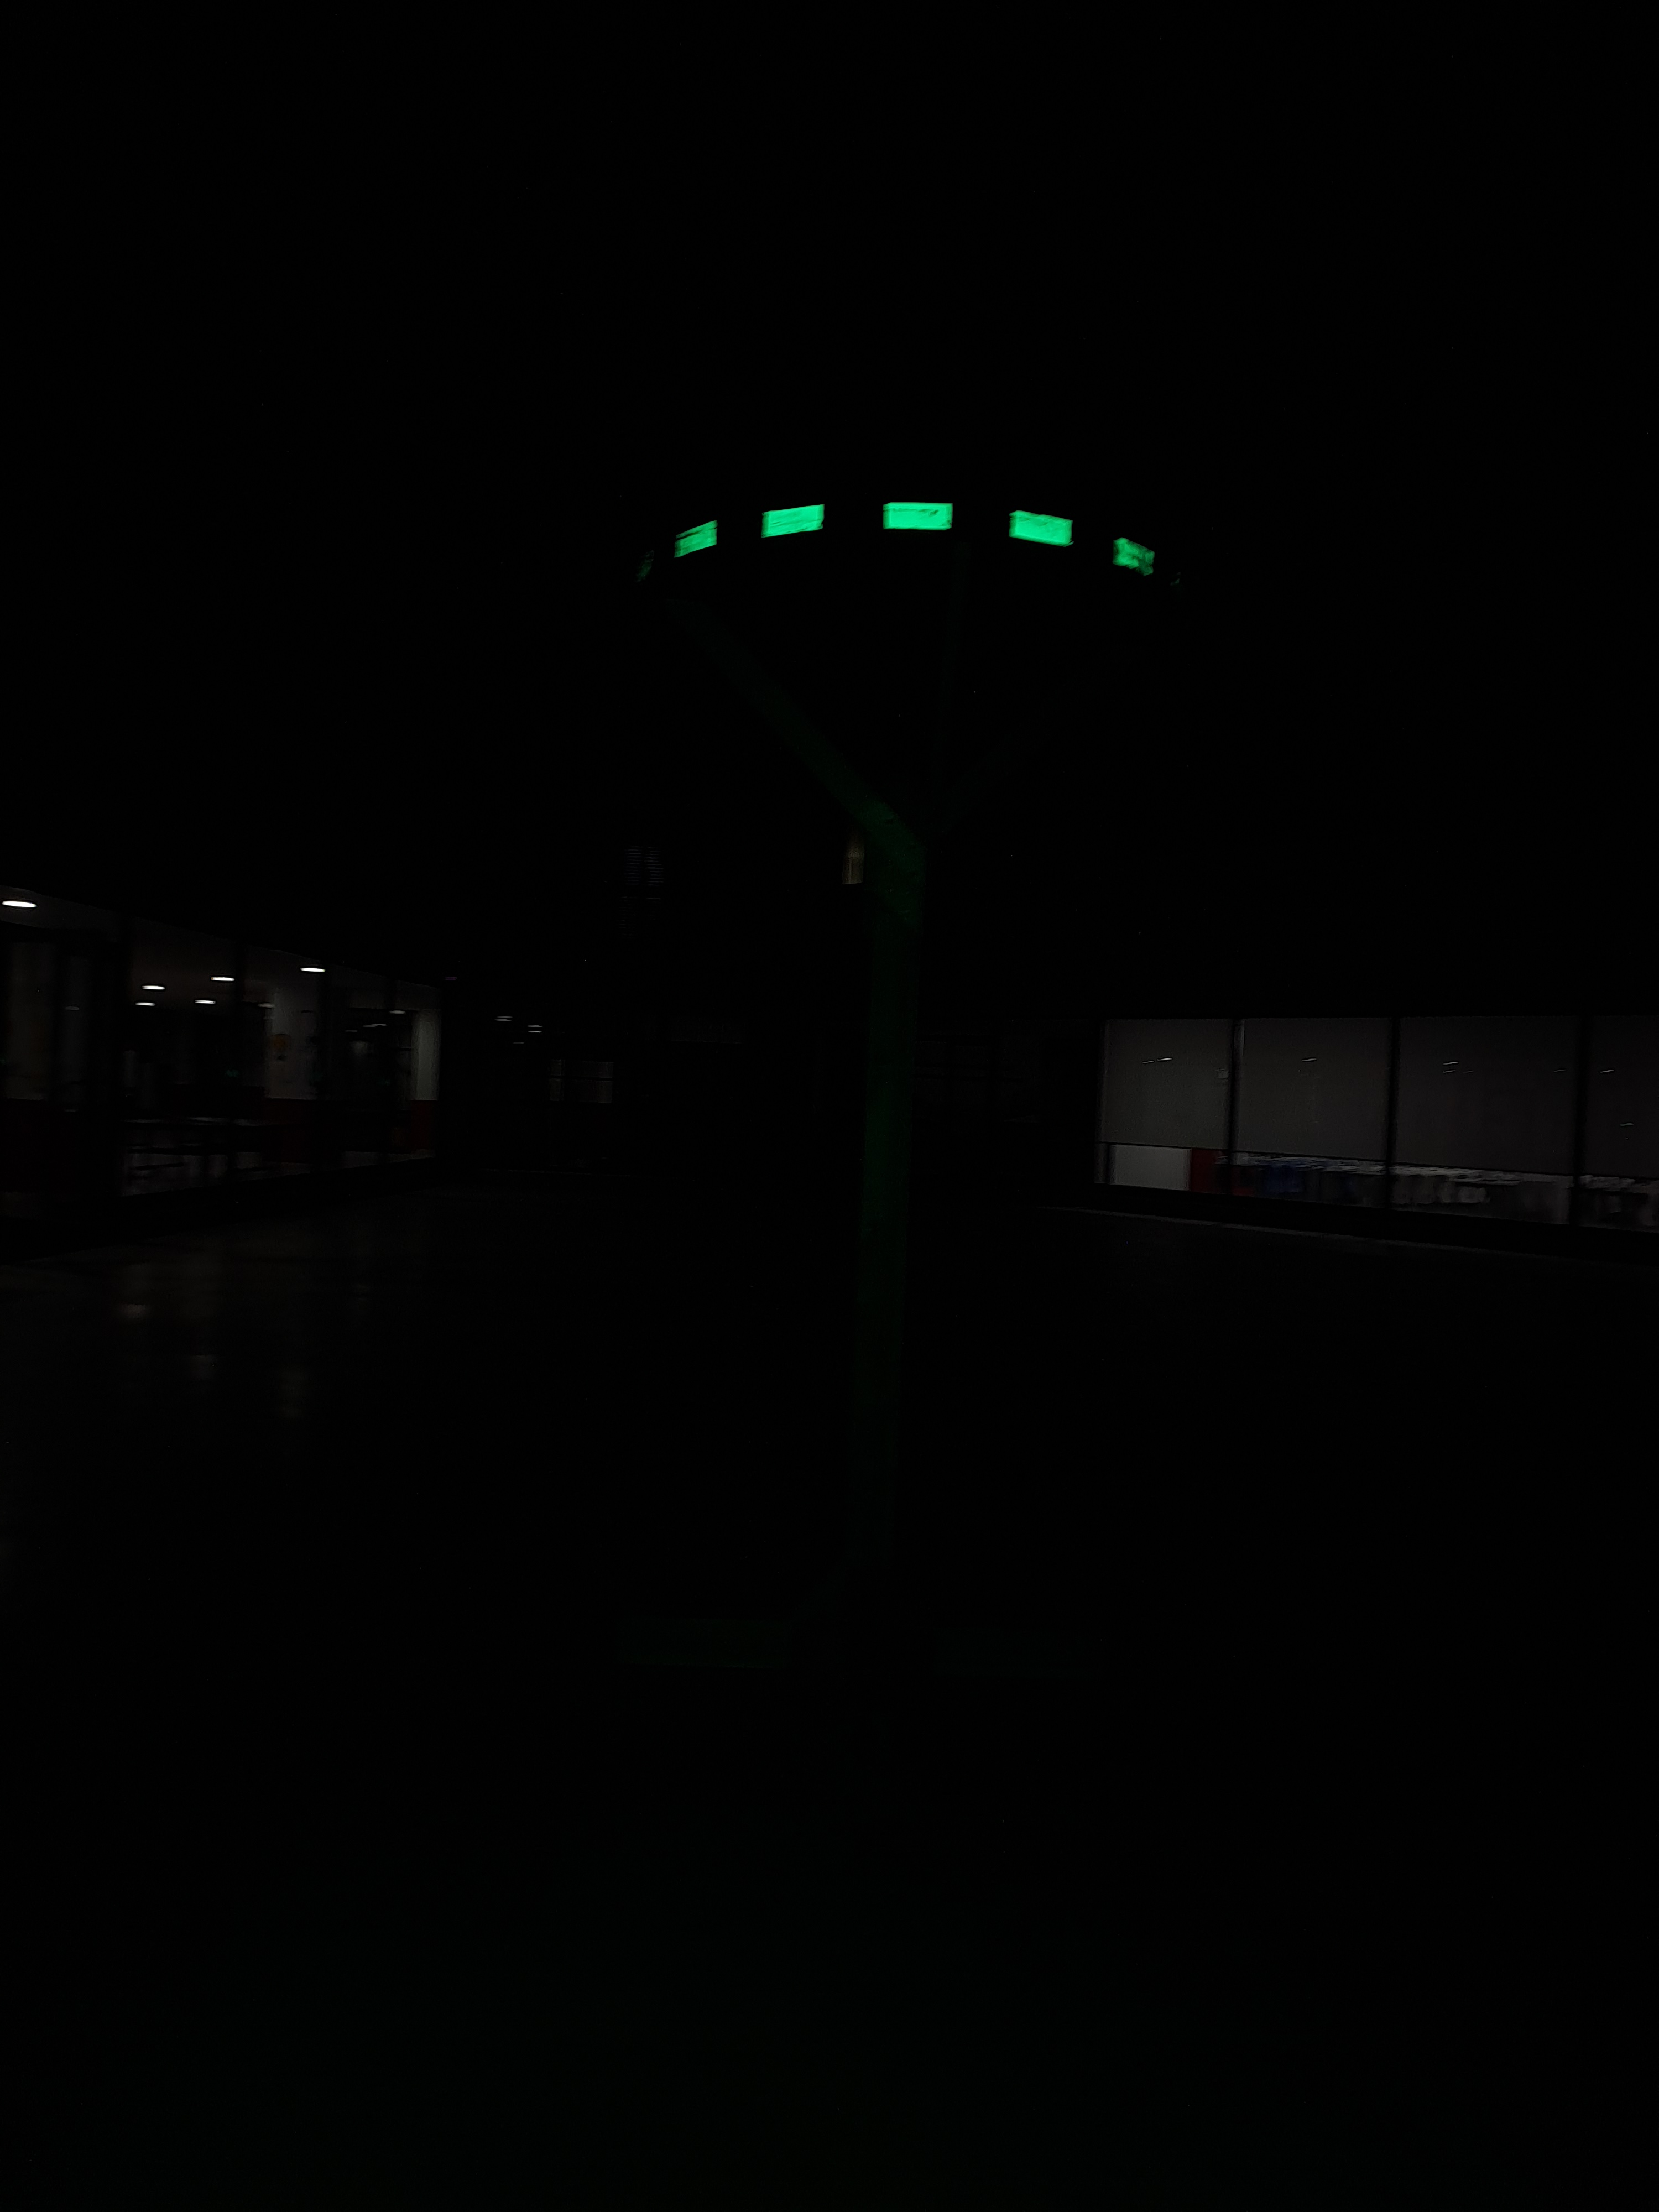hoop: (669, 491, 1159, 585)
